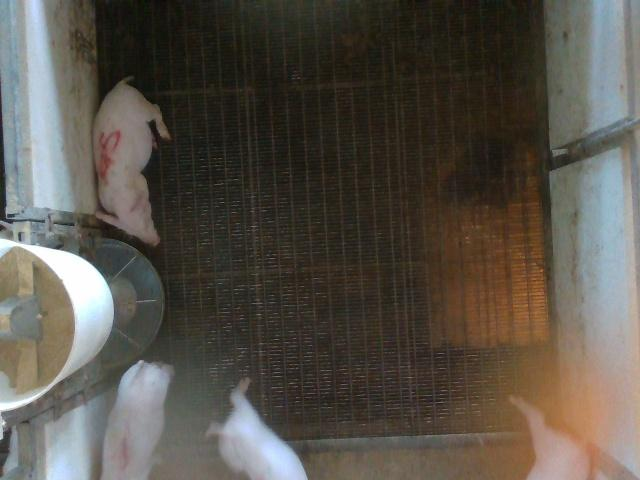pig-1: (101, 360, 174, 478)
pig-2: (208, 380, 306, 479)
pig-5: (94, 76, 171, 246)
